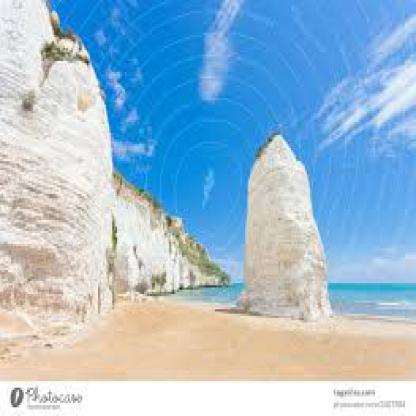Sedimentary_Chalk: (13, 59, 92, 327), (253, 161, 316, 309)
